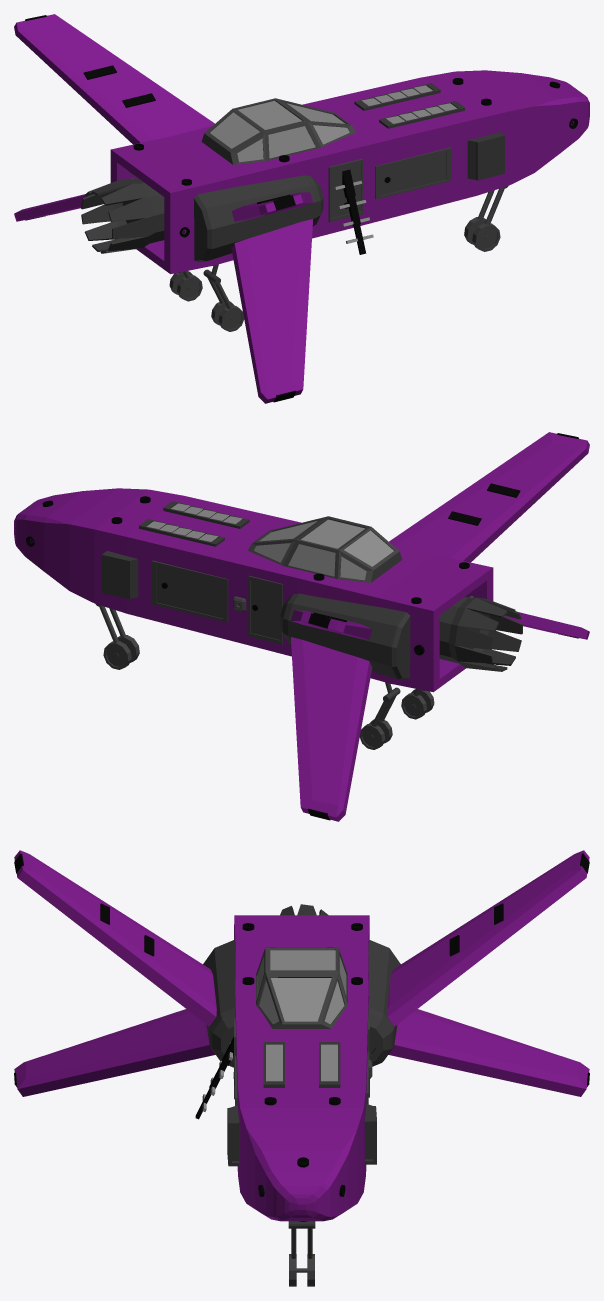
Rendered from FighterGen7_purple_closed.glb.
3 views of the same model, one above another, from view 1: azimuth 30°, elevation 25°; view 2: azimuth 150°, elevation 25°; view 3: azimuth 270°, elevation 25° (orthographic). The views are drawn at different scales.
Parts seen in each view (by area): view 1: Body, Cube.003, Cylinder, Cylinder.002, Cube.099, Cube.116, Cube.043, Cube.120, Cube.108, Cube.104, Cube.105, Cube.106 (+3 smaller); view 2: Body, Cube.003, Cylinder, Cylinder.002, Cube.114, Cube.099, Cube.115, Cube.043, Cube.108, Cube.104, Cube.105, Cube.106 (+3 smaller); view 3: Cube.003, Body, Cylinder, Cube.099, Cube.102, Cube.043, Cube.104, Cube.103, Cube.108.
Part boxes in pixels (x1,y1,x2,y2): Body: (110,70,589,274); Cube.003: (14,14,312,403); Cylinder: (193,175,323,261); Cylinder.002: (81,178,164,253); Cube.099: (201,98,355,164); Cube.116: (375,147,451,199); Cube.043: (467,132,504,180); Cube.120: (328,158,363,222); Cube.108: (354,83,464,128); Cube.104: (238,100,301,129); Cube.105: (268,126,315,158); Cube.106: (210,112,259,148); Body: (14,488,493,692); Cube.003: (291,432,589,821); Cylinder: (280,593,410,679); Cylinder.002: (439,596,522,671); Cube.114: (151,560,228,622); Cube.099: (248,516,402,582); Cube.115: (248,575,282,644); Cube.043: (101,551,138,599); Cube.108: (139,501,249,546); Cube.104: (301,519,364,548); Cube.105: (288,544,335,576); Cube.106: (344,530,393,566); Cube.003: (14,850,589,1096); Body: (234,915,369,1221); Cylinder: (203,939,400,1067); Cube.099: (256,947,347,1028); Cube.102: (271,977,331,1021); Cube.043: (227,1104,376,1166); Cube.104: (270,950,335,970); Cube.103: (259,981,344,1024); Cube.108: (263,1042,340,1087).
Size of the model in its own units: 18.67 by 7.98 by 16.83.
